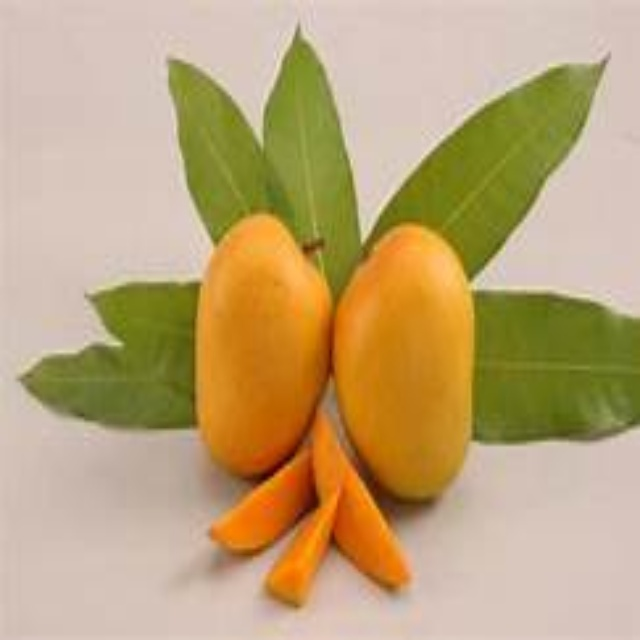mango: (335, 222, 484, 515), (192, 219, 346, 476)
